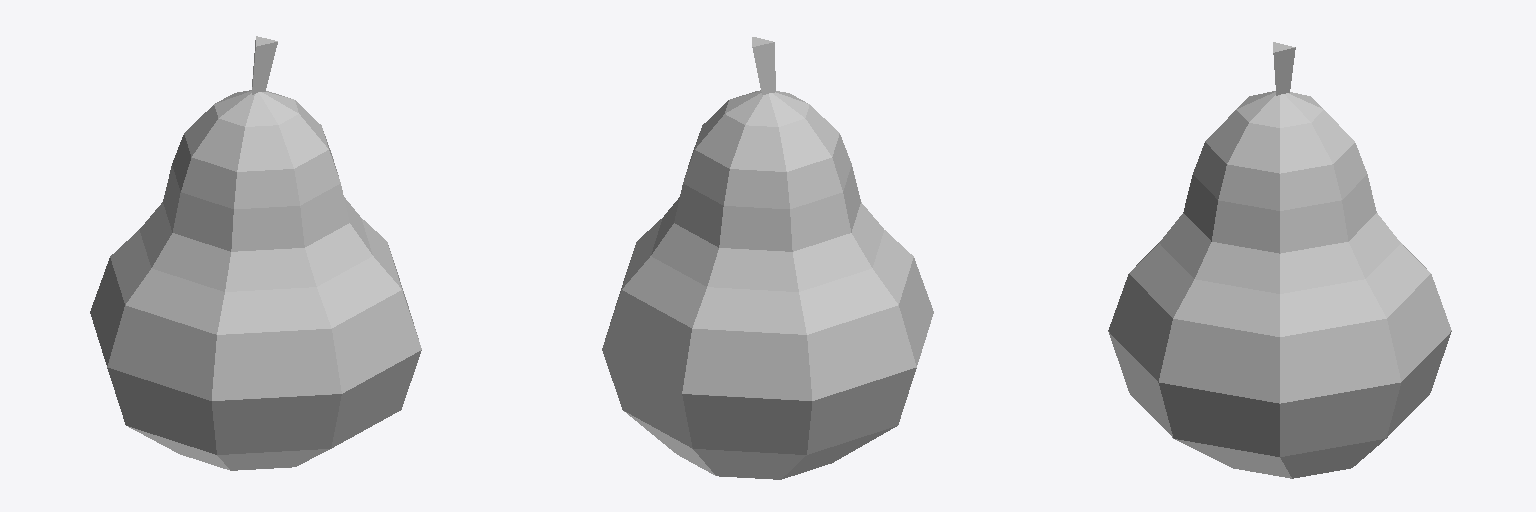
3 renders of one model, left to right at view 1: azimuth 30°, elevation 25°; view 2: azimuth 150°, elevation 25°; view 3: azimuth 270°, elevation 25°, orthographic.
Parts seen in each view (by area): view 1: Pear_Sphere.002; view 2: Pear_Sphere.002; view 3: Pear_Sphere.002.
Part boxes in pixels (bbox=[...]): Pear_Sphere.002: bbox=[90, 36, 421, 470]; Pear_Sphere.002: bbox=[602, 37, 933, 479]; Pear_Sphere.002: bbox=[1108, 42, 1451, 478].
Size of the model in its own units: 1.57 by 2.14 by 1.57.